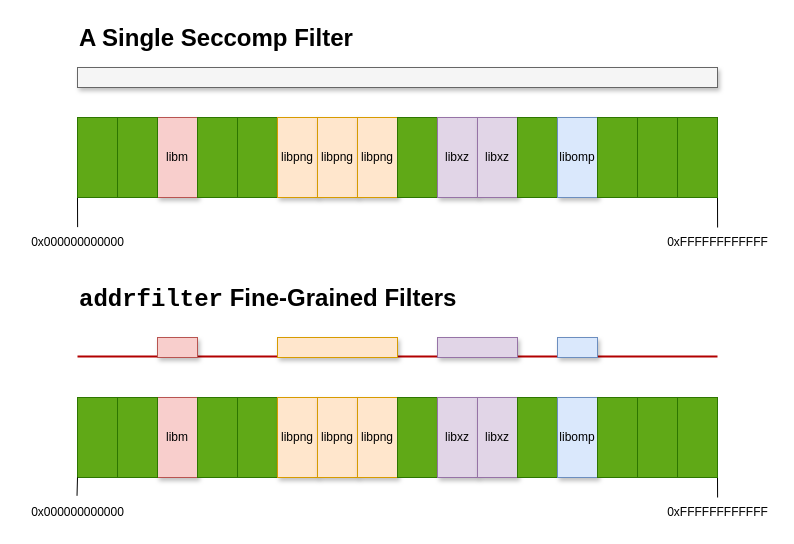
The diagram is 794 pixels wide and 544 high, and some of its shapes have lost their labels. Here are the shapes that lost their labels. From the top down, the centre of each, then its label:
the point at 398,78: Single filter, accounts for entire application
the point at 338,348: .so specific filter
